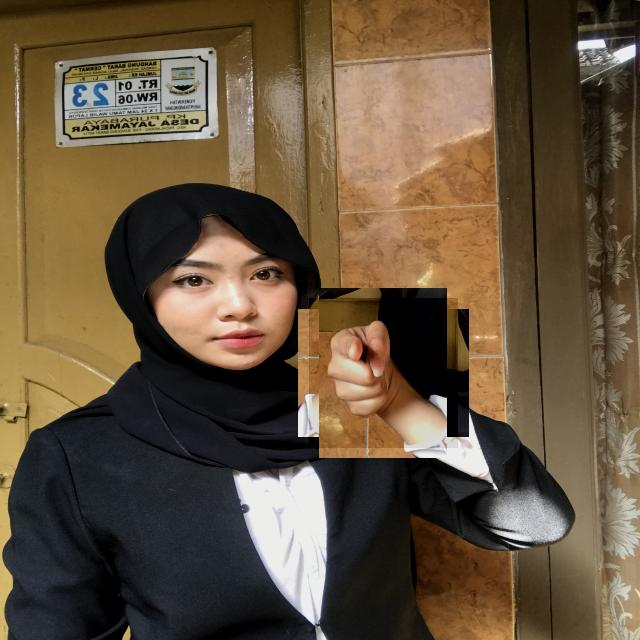kamu: (309, 298, 458, 448)
